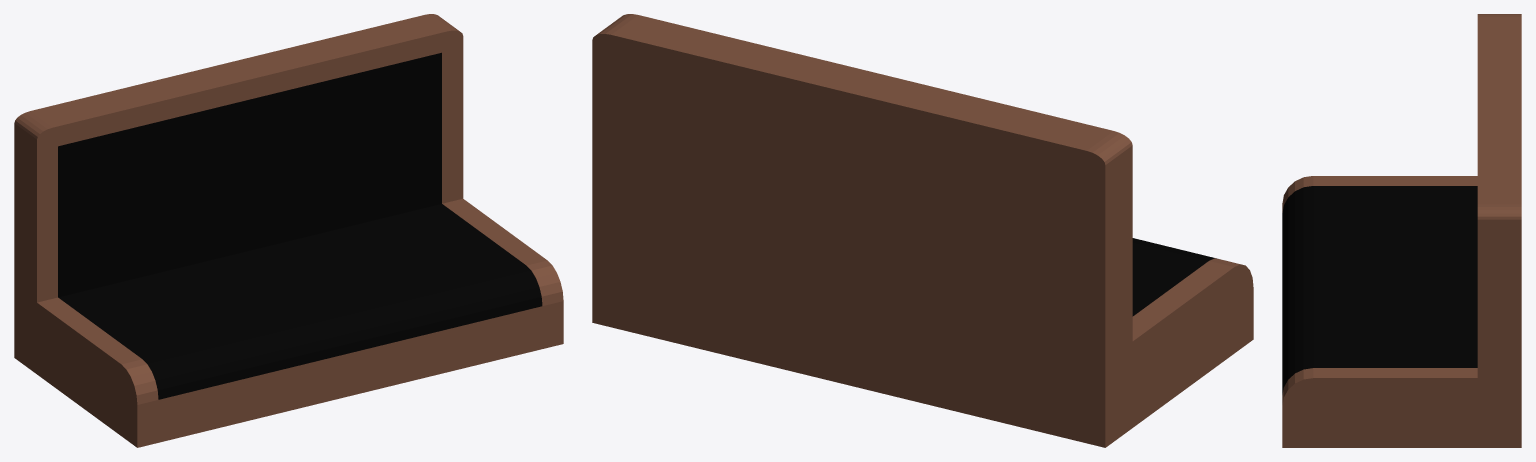
File: Booth_Seating_01.fbx
3 views of the same model, side by side, from view 1: azimuth 30°, elevation 25°; view 2: azimuth 150°, elevation 25°; view 3: azimuth 270°, elevation 25° (orthographic). The views are drawn at different scales.
Parts seen in each view (by area): view 1: Booth_Seating_02; view 2: Booth_Seating_02; view 3: Booth_Seating_02.
Part boxes in pixels (x1,y1,x2,y2): Booth_Seating_02: [14, 14, 563, 447]; Booth_Seating_02: [592, 14, 1253, 447]; Booth_Seating_02: [1282, 14, 1521, 447].
Size of the model in its own units: 2 by 1.09 by 1.
